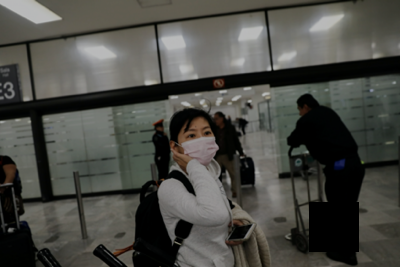with_mask: (179, 126, 219, 165)
